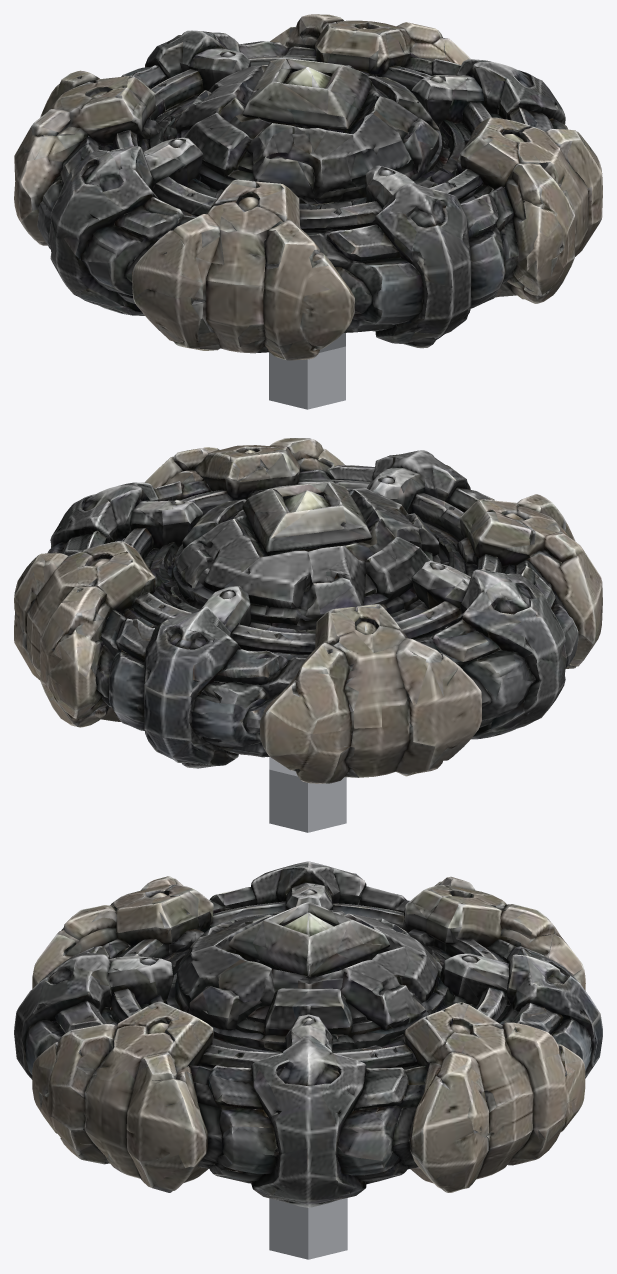
The model's file is granite.glb.
3 views of the same model, one above another, from view 1: azimuth 30°, elevation 25°; view 2: azimuth 150°, elevation 25°; view 3: azimuth 270°, elevation 25° (orthographic).
Parts seen in each view (by area): view 1: mesh_node; view 2: mesh_node; view 3: mesh_node.
Part boxes in pixels (x1,y1,x2,y2): mesh_node: (14, 14, 602, 409); mesh_node: (14, 438, 602, 832); mesh_node: (14, 861, 602, 1259).
Size of the model in its own units: 19.5 by 9.59 by 19.55.
Materials: 2 (1 with a texture image).
